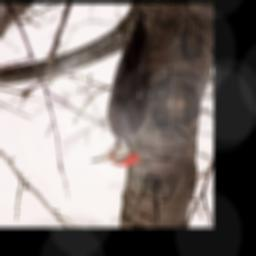Woodpecker: (88, 13, 157, 166)
